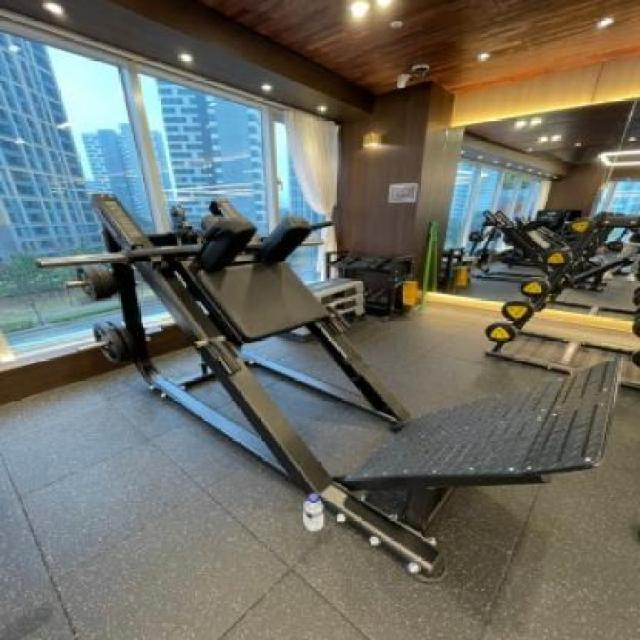leg press: (35, 185, 632, 586)
